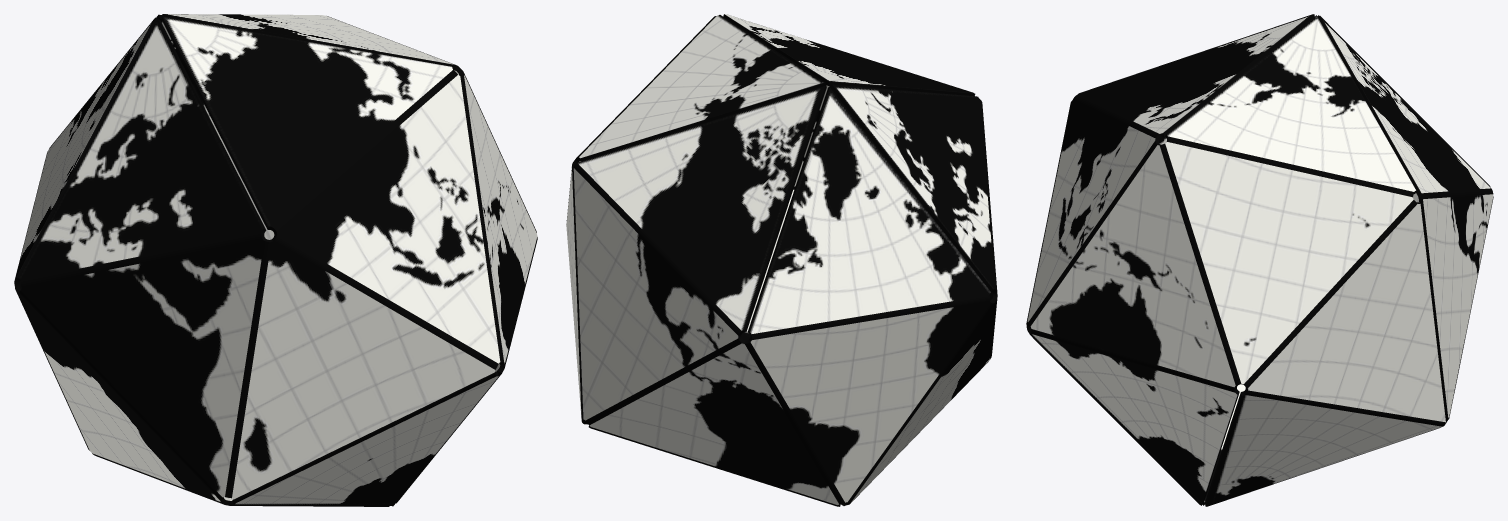
Rendered from globe.glb.
The picture shows the model from 3 angles, left to right: view 1: azimuth 30°, elevation 25°; view 2: azimuth 150°, elevation 25°; view 3: azimuth 270°, elevation 25°; orthographic projection. The views are drawn at different scales.
Visible parts, largest first — view 1: icosahedron\Corps.001_0; view 2: icosahedron\Corps.001_0; view 3: icosahedron\Corps.001_0.
Boxes of the visible parts, <box> form: icosahedron\Corps.001_0: <box>14,14,537,506</box>; icosahedron\Corps.001_0: <box>566,14,997,506</box>; icosahedron\Corps.001_0: <box>1026,14,1493,506</box>.
Bounding box in the file's own units: 11.59 × 10.81 × 10.85.
Materials: 1 (1 with a texture image).
